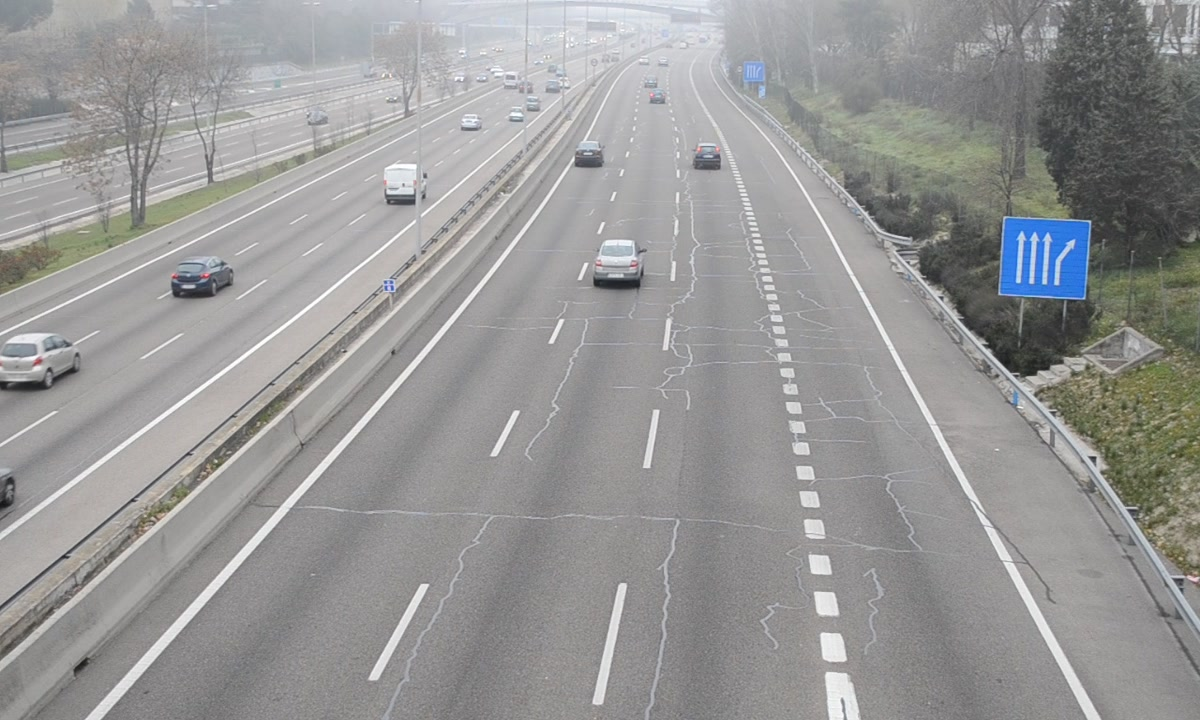car: (595, 241, 642, 284), (693, 143, 722, 171), (574, 141, 603, 168)
